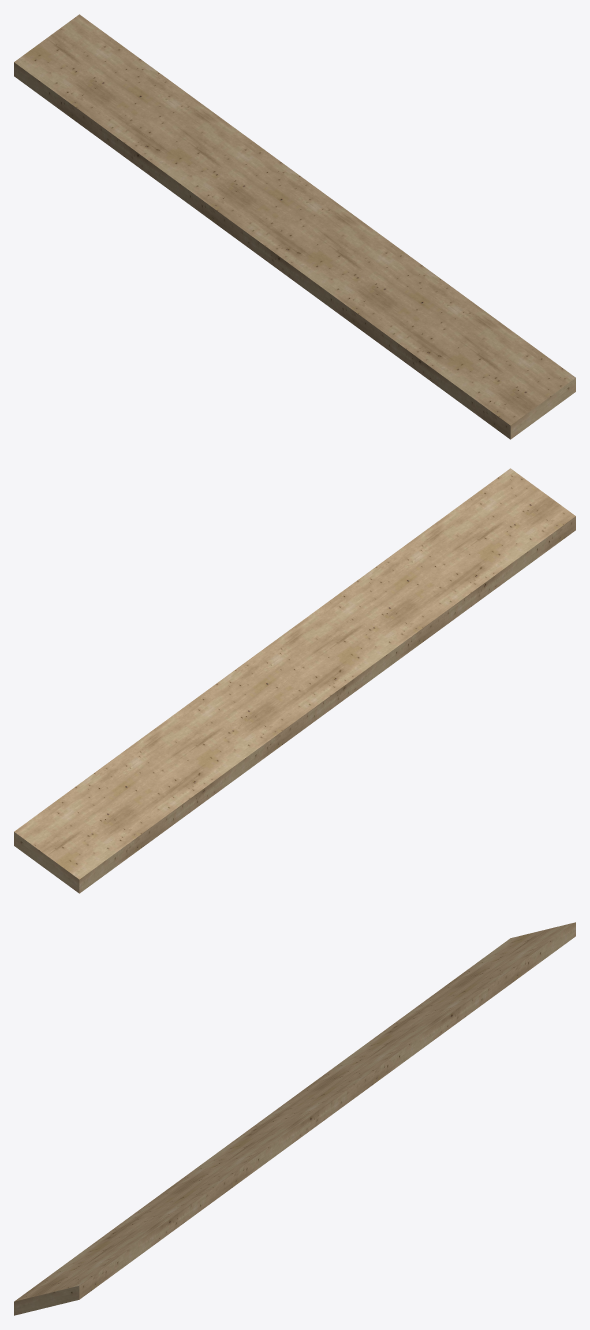
Rendered from Joglo_part_340.fbx.
3 views of the same model, one above another, from view 1: azimuth 30°, elevation 25°; view 2: azimuth 150°, elevation 25°; view 3: azimuth 330°, elevation 25° (orthographic).
Parts seen in each view (by area): view 1: Mesh398_Wood___Pine_Grained_Horizontal_0.001; view 2: Mesh398_Wood___Pine_Grained_Horizontal_0.001; view 3: Mesh398_Wood___Pine_Grained_Horizontal_0.001.
Part boxes in pixels (left/top/right/bottom): Mesh398_Wood___Pine_Grained_Horizontal_0.001: left=14, top=14, right=575, bottom=439; Mesh398_Wood___Pine_Grained_Horizontal_0.001: left=14, top=468, right=575, bottom=893; Mesh398_Wood___Pine_Grained_Horizontal_0.001: left=14, top=922, right=575, bottom=1315.
Size of the model in its own units: 31.7 by 21.3 by 416.
